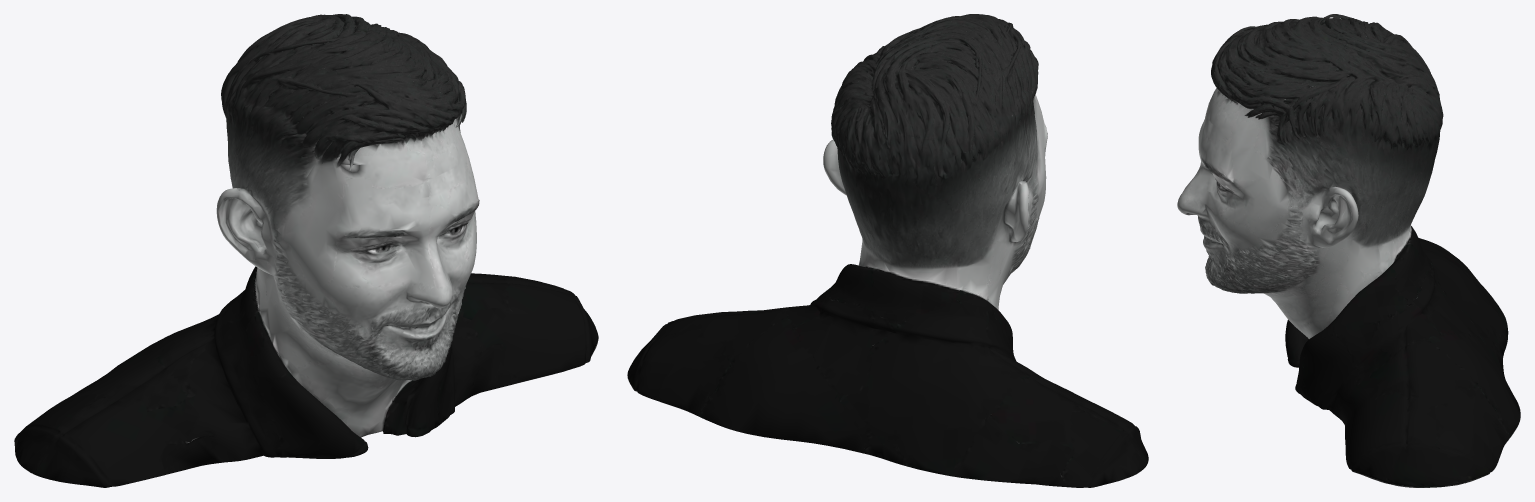
File: portrait.glb
3 views of the same model, side by side, from view 1: azimuth 30°, elevation 25°; view 2: azimuth 150°, elevation 25°; view 3: azimuth 270°, elevation 25° (orthographic). The views are drawn at different scales.
Size of the model in its own units: 1.9 by 1.29 by 1.18.
1 material, 1 textured.
